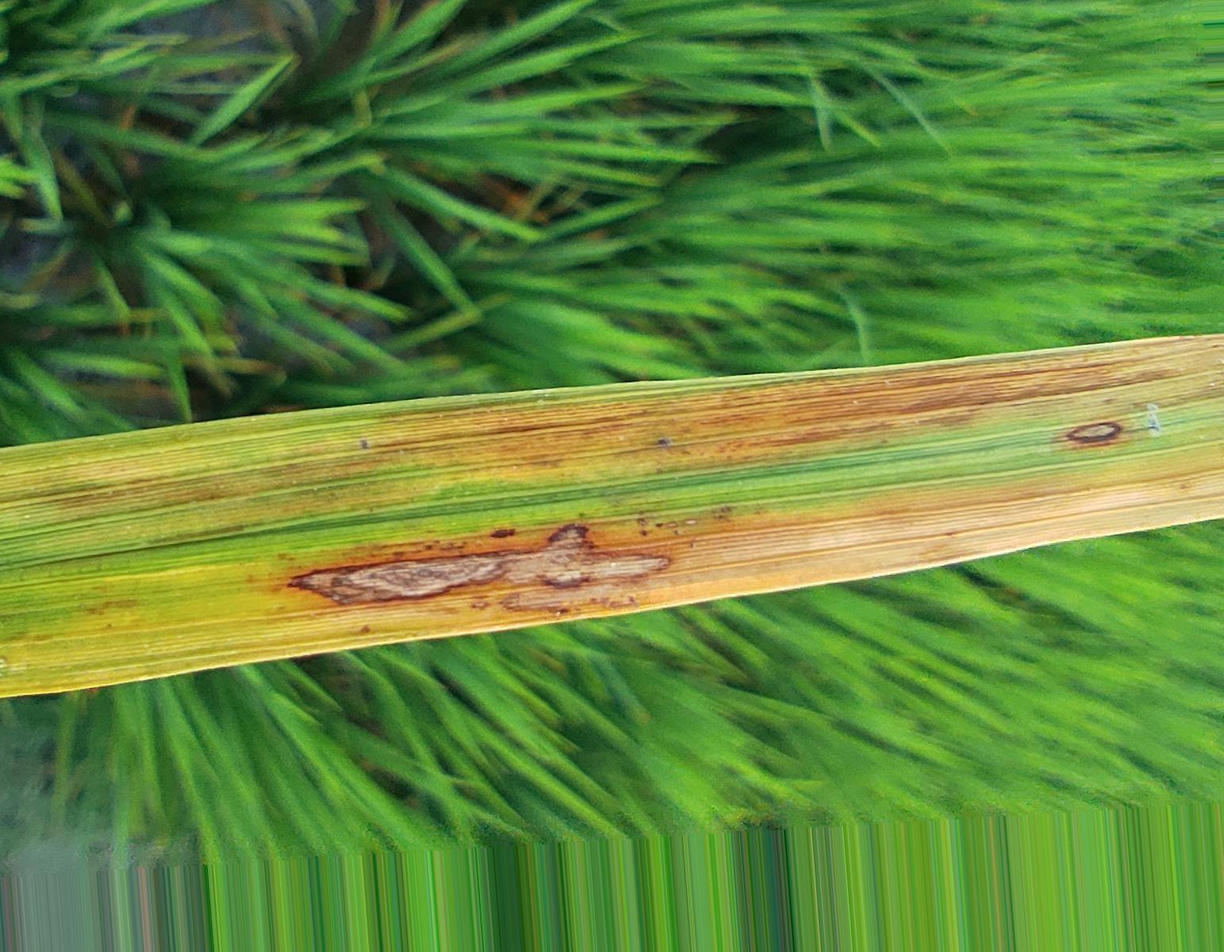LEAF BLAST: (284, 523, 671, 605), (499, 582, 642, 615), (1065, 420, 1125, 444)
